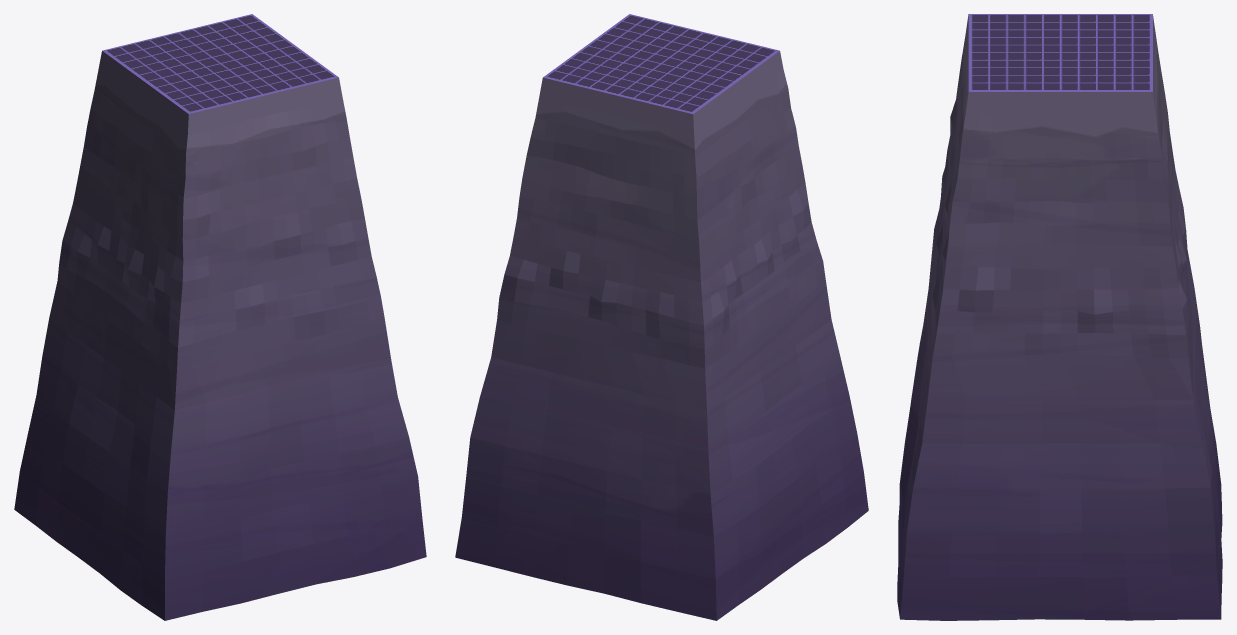
The model's file is ArenaBig.fbx.
3 renders of one model, left to right at view 1: azimuth 30°, elevation 25°; view 2: azimuth 150°, elevation 25°; view 3: azimuth 270°, elevation 25°, orthographic. The views are drawn at different scales.
Parts seen in each view (by area): view 1: ArenaBig, ArenaBigField; view 2: ArenaBig, ArenaBigField; view 3: ArenaBig, ArenaBigField.
Part boxes in pixels (box(x1,y1,x2,y2)): ArenaBig: box(14, 14, 426, 620); ArenaBigField: box(106, 15, 335, 112); ArenaBig: box(455, 14, 868, 620); ArenaBigField: box(546, 15, 776, 112); ArenaBig: box(897, 14, 1222, 620); ArenaBigField: box(971, 14, 1150, 90).
Bounding box in the file's own units: 3189 × 5433 × 3199.
Materials: 2 (2 with a texture image).
